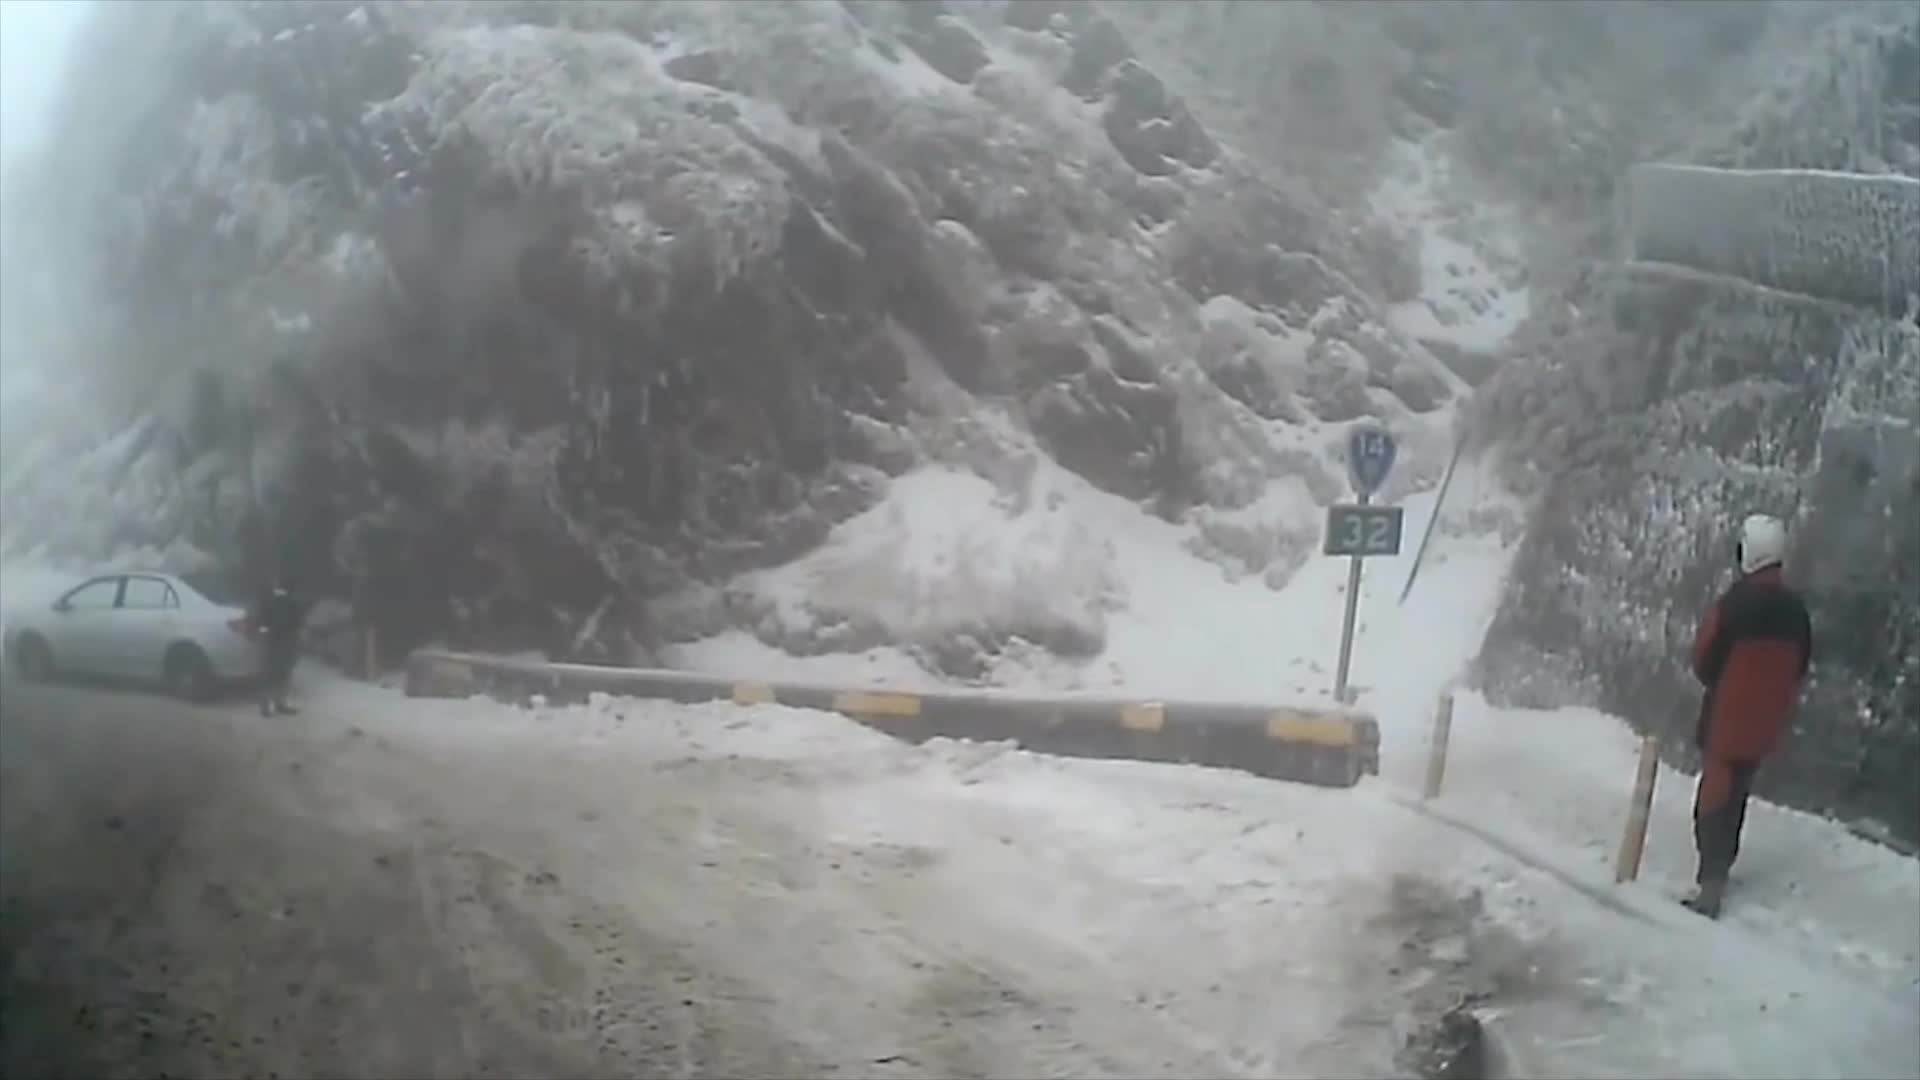pedestrian: (1670, 516, 1817, 923), (257, 577, 303, 718)
vehicle: (0, 567, 274, 702)
